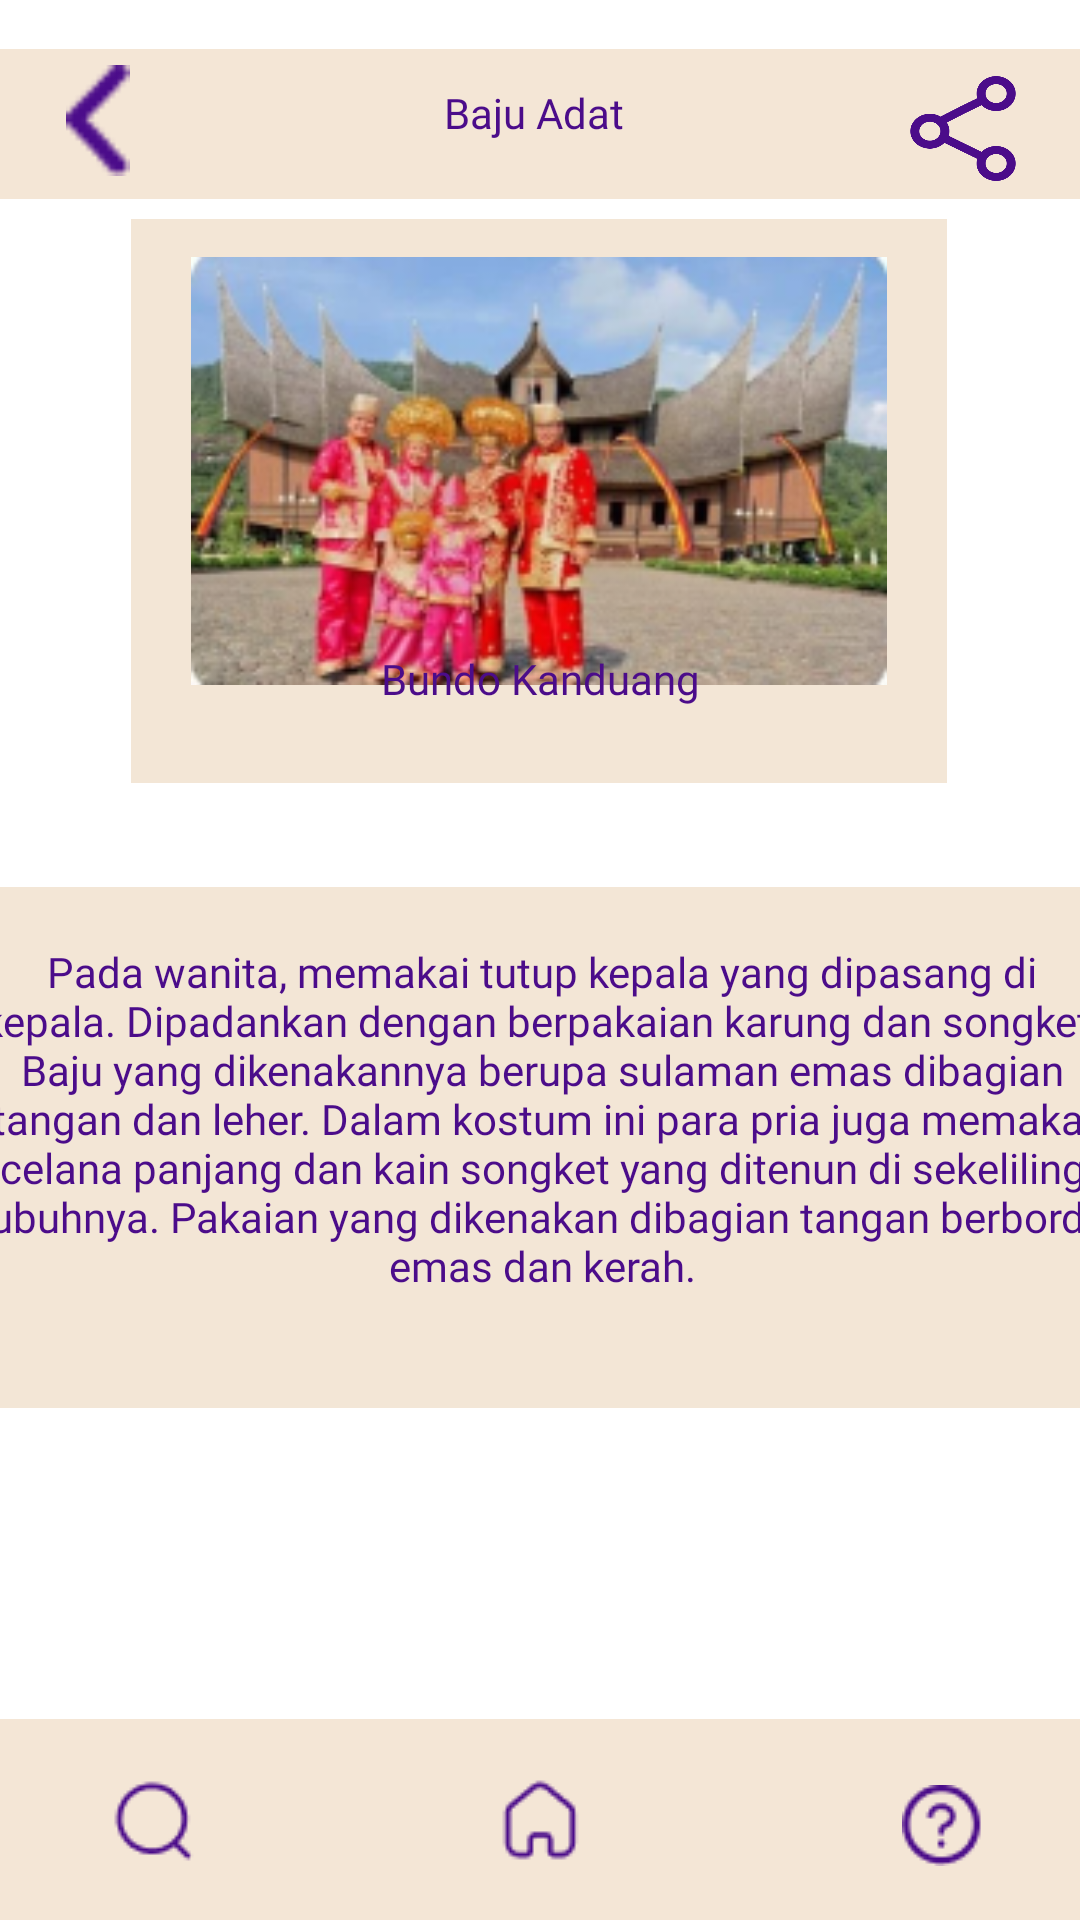

Point at icon controls on the screen. Image size 1080x1920, points as point (x, y).
homeee: point (540, 1820)
share: point (963, 128)
tanya: point (941, 1825)
xearch: point (152, 1821)
